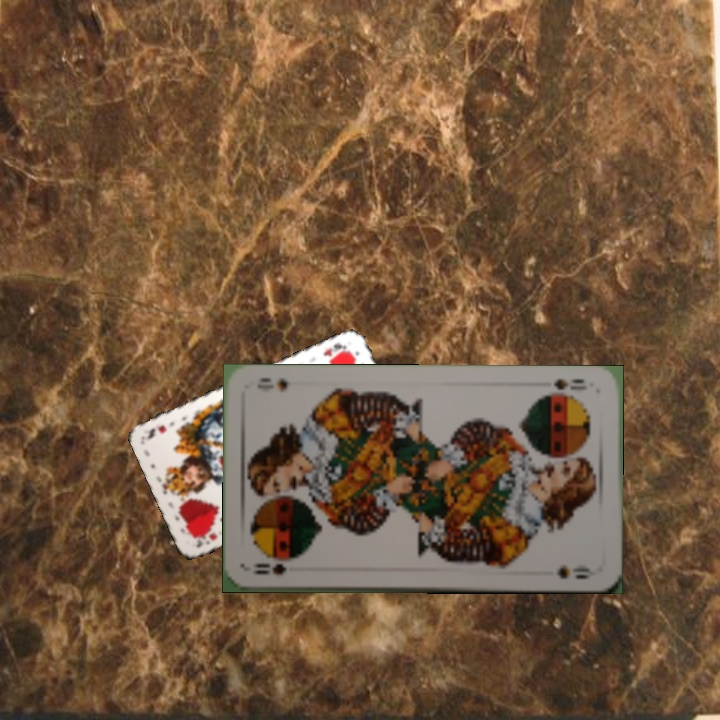HK: (319, 339, 352, 363), (190, 526, 220, 550)
SO: (550, 374, 590, 393), (248, 559, 289, 577)
